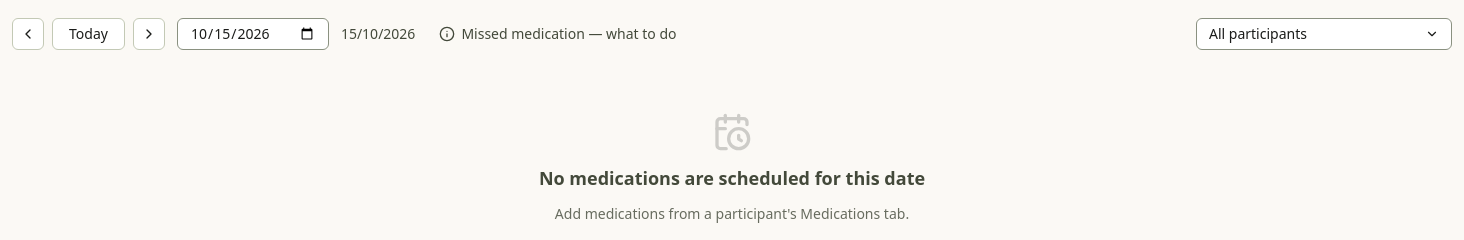
Scenario: MarTab — day navigation › moving the shown day › Today returns to today
Click the button named "Previous day" at (28, 34), box top-left (12, 18), bottom-right (44, 50)
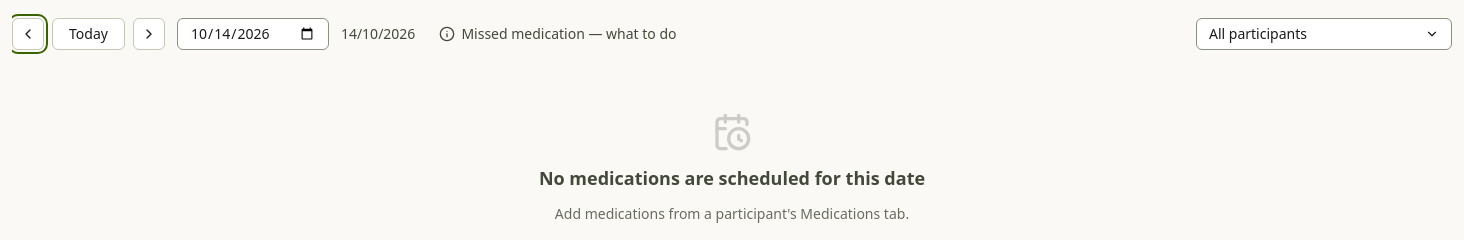
Click the button "Today" at (88, 34), box top-left (52, 18), bottom-right (125, 50)
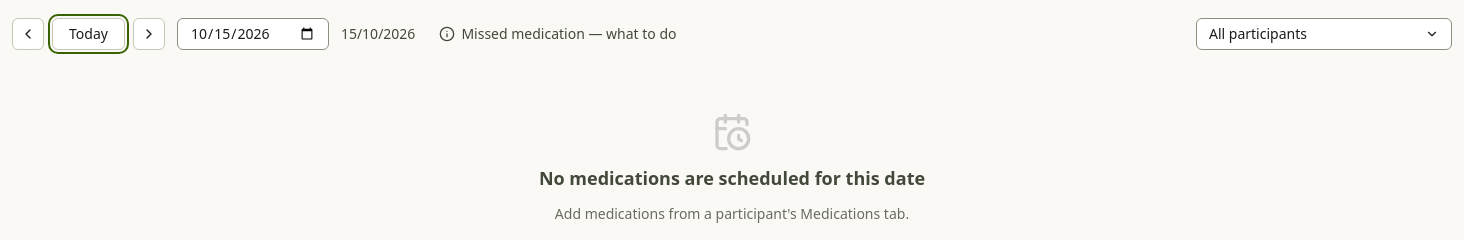
Check: the date field named "Select date" holds "2026-10-15", box top-left (177, 18), bottom-right (329, 50)
